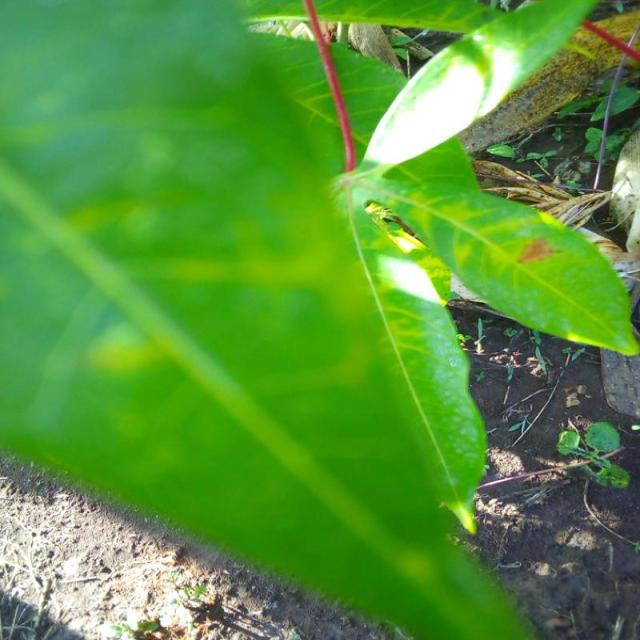cassava leaf: (1, 0, 637, 638), (344, 132, 638, 358), (352, 0, 599, 176)
